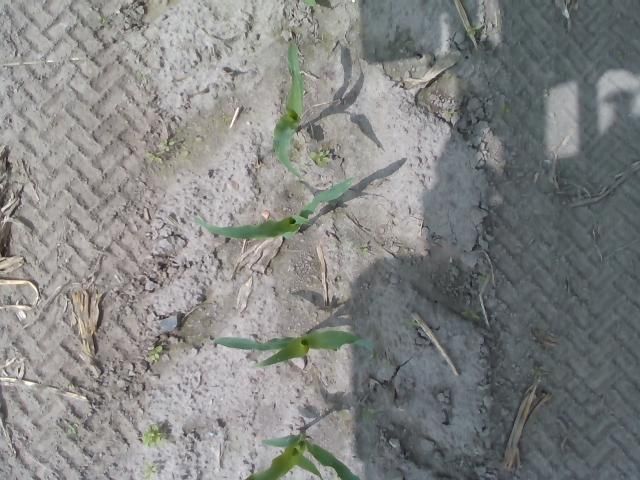Maize: (191, 178, 354, 240), (209, 329, 375, 368), (238, 430, 360, 480), (271, 39, 306, 184)
Weeds: (145, 138, 175, 162), (142, 424, 169, 448), (146, 343, 166, 362), (310, 150, 331, 168), (143, 462, 160, 480), (466, 22, 484, 38), (359, 407, 375, 419), (461, 310, 479, 320), (358, 243, 368, 256)
